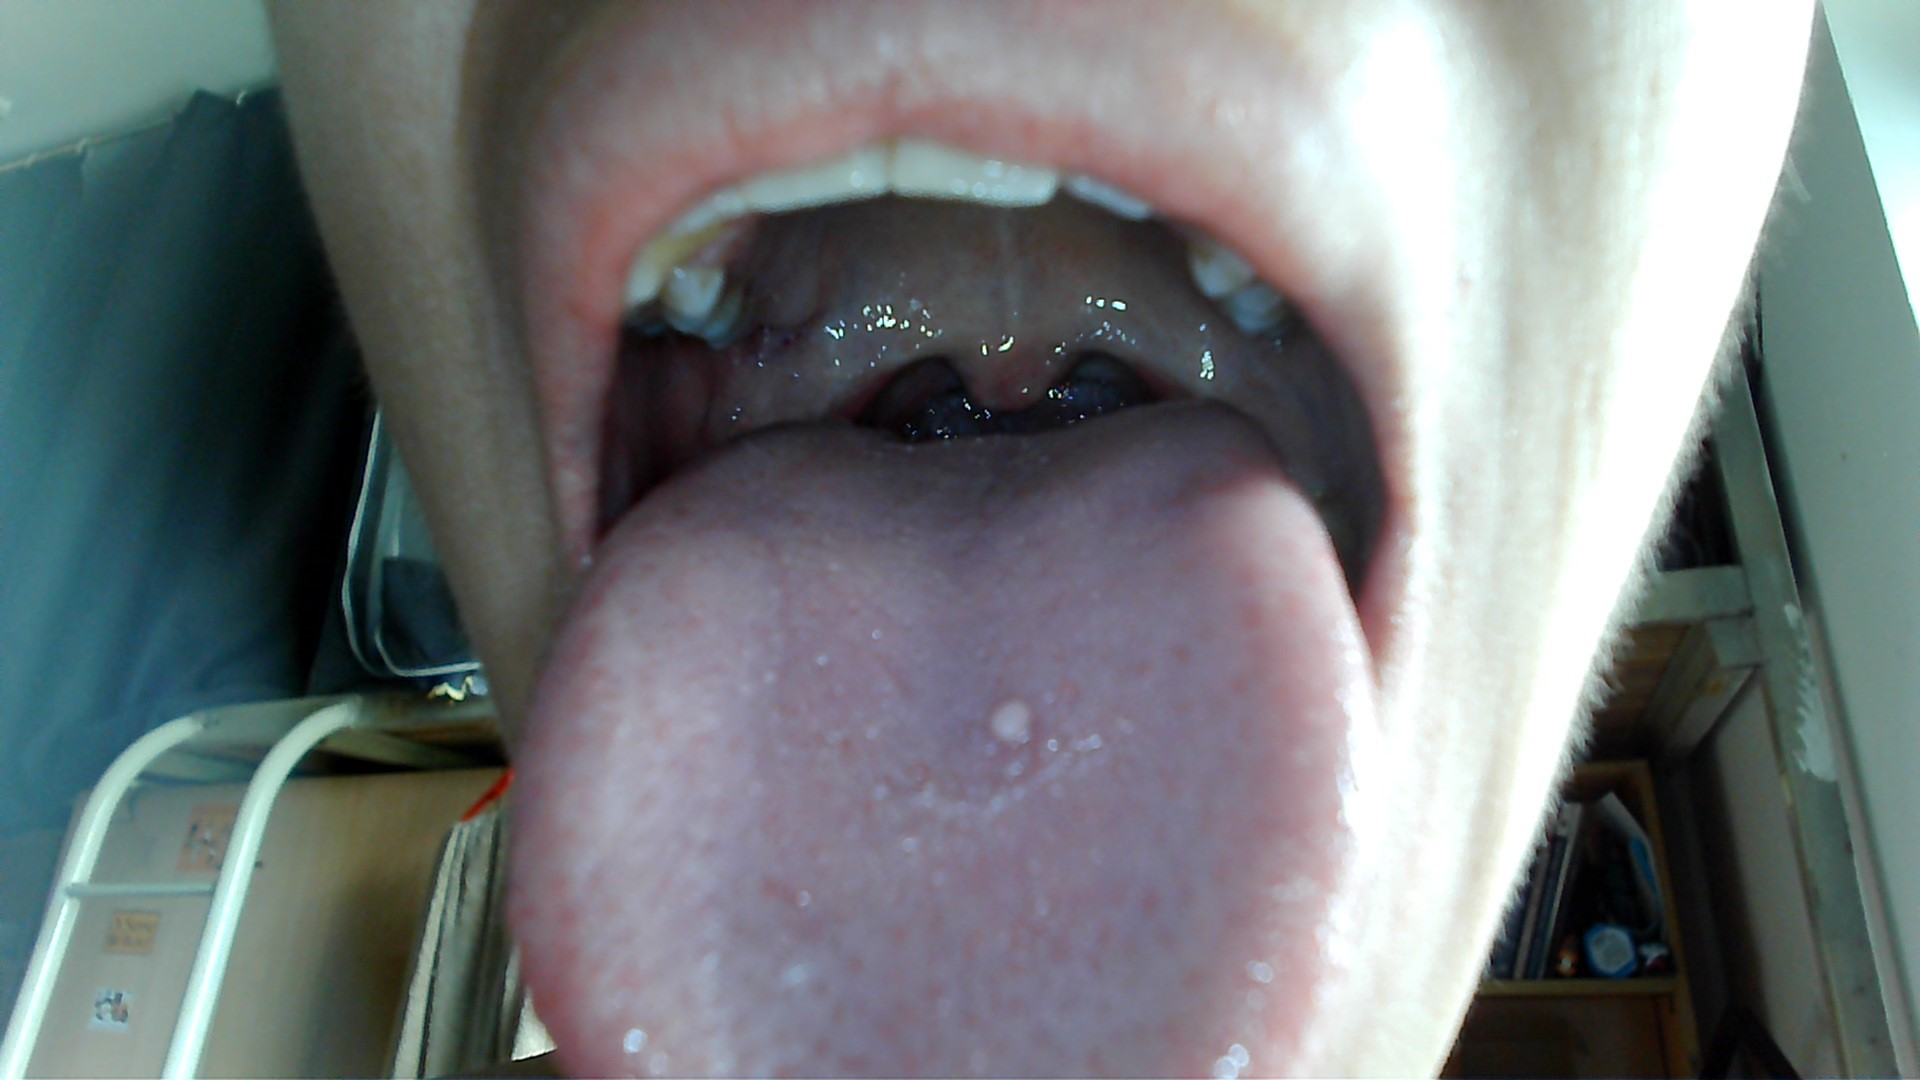throat: (810, 287, 914, 419), (1110, 284, 1197, 407)
